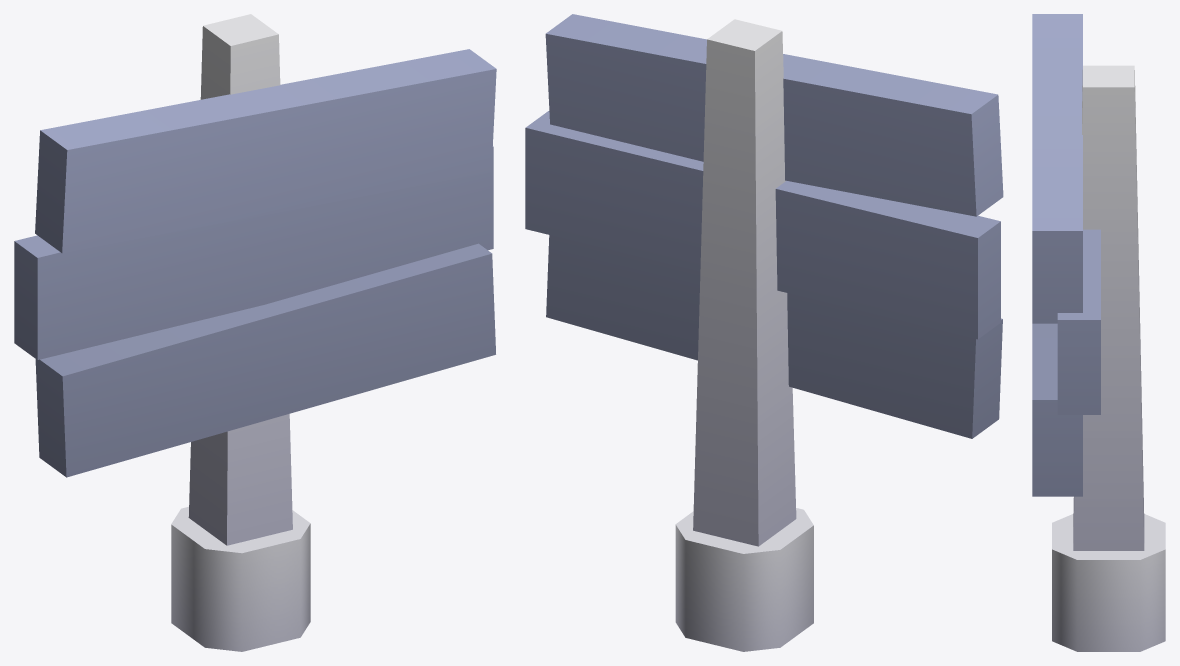
The model's file is sign.glb.
3 views of the same model, side by side, from view 1: azimuth 30°, elevation 25°; view 2: azimuth 150°, elevation 25°; view 3: azimuth 270°, elevation 25° (orthographic). The views are drawn at different scales.
Visible parts, largest first — view 1: sign; view 2: sign; view 3: sign.
Part boxes in pixels (<box>): sign: <box>14,14,496,651</box>; sign: <box>525,14,1003,651</box>; sign: <box>1032,14,1165,651</box>.
Bounding box in the file's own units: 0.4835 × 0.6 × 0.1314.
